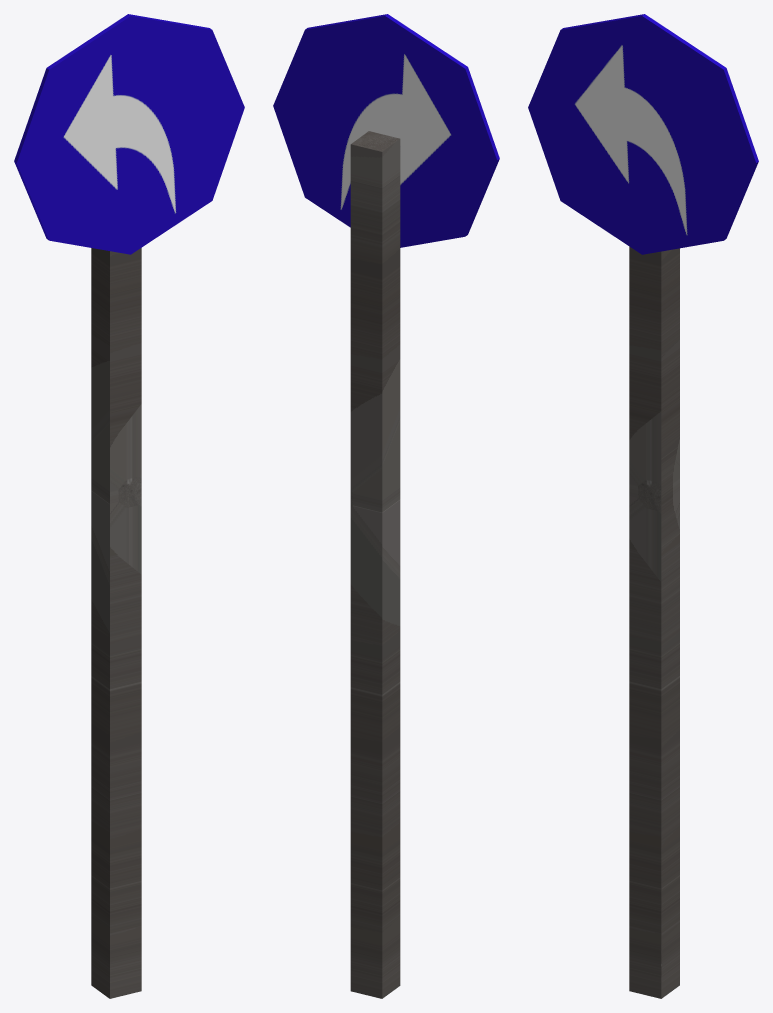
Rendered from PlacaEsquerda.fbx.
The picture shows the model from 3 angles, left to right: view 1: azimuth 30°, elevation 25°; view 2: azimuth 150°, elevation 25°; view 3: azimuth 330°, elevation 25°; orthographic projection.
Parts seen in each view (by area): view 1: Placa6; view 2: Placa6; view 3: Placa6.
Part boxes in pixels (x1,y1,x2,y2): Placa6: [14, 14, 244, 998]; Placa6: [273, 14, 499, 998]; Placa6: [528, 14, 758, 998].
Size of the model in its own units: 77.29 by 318 by 13.26.
